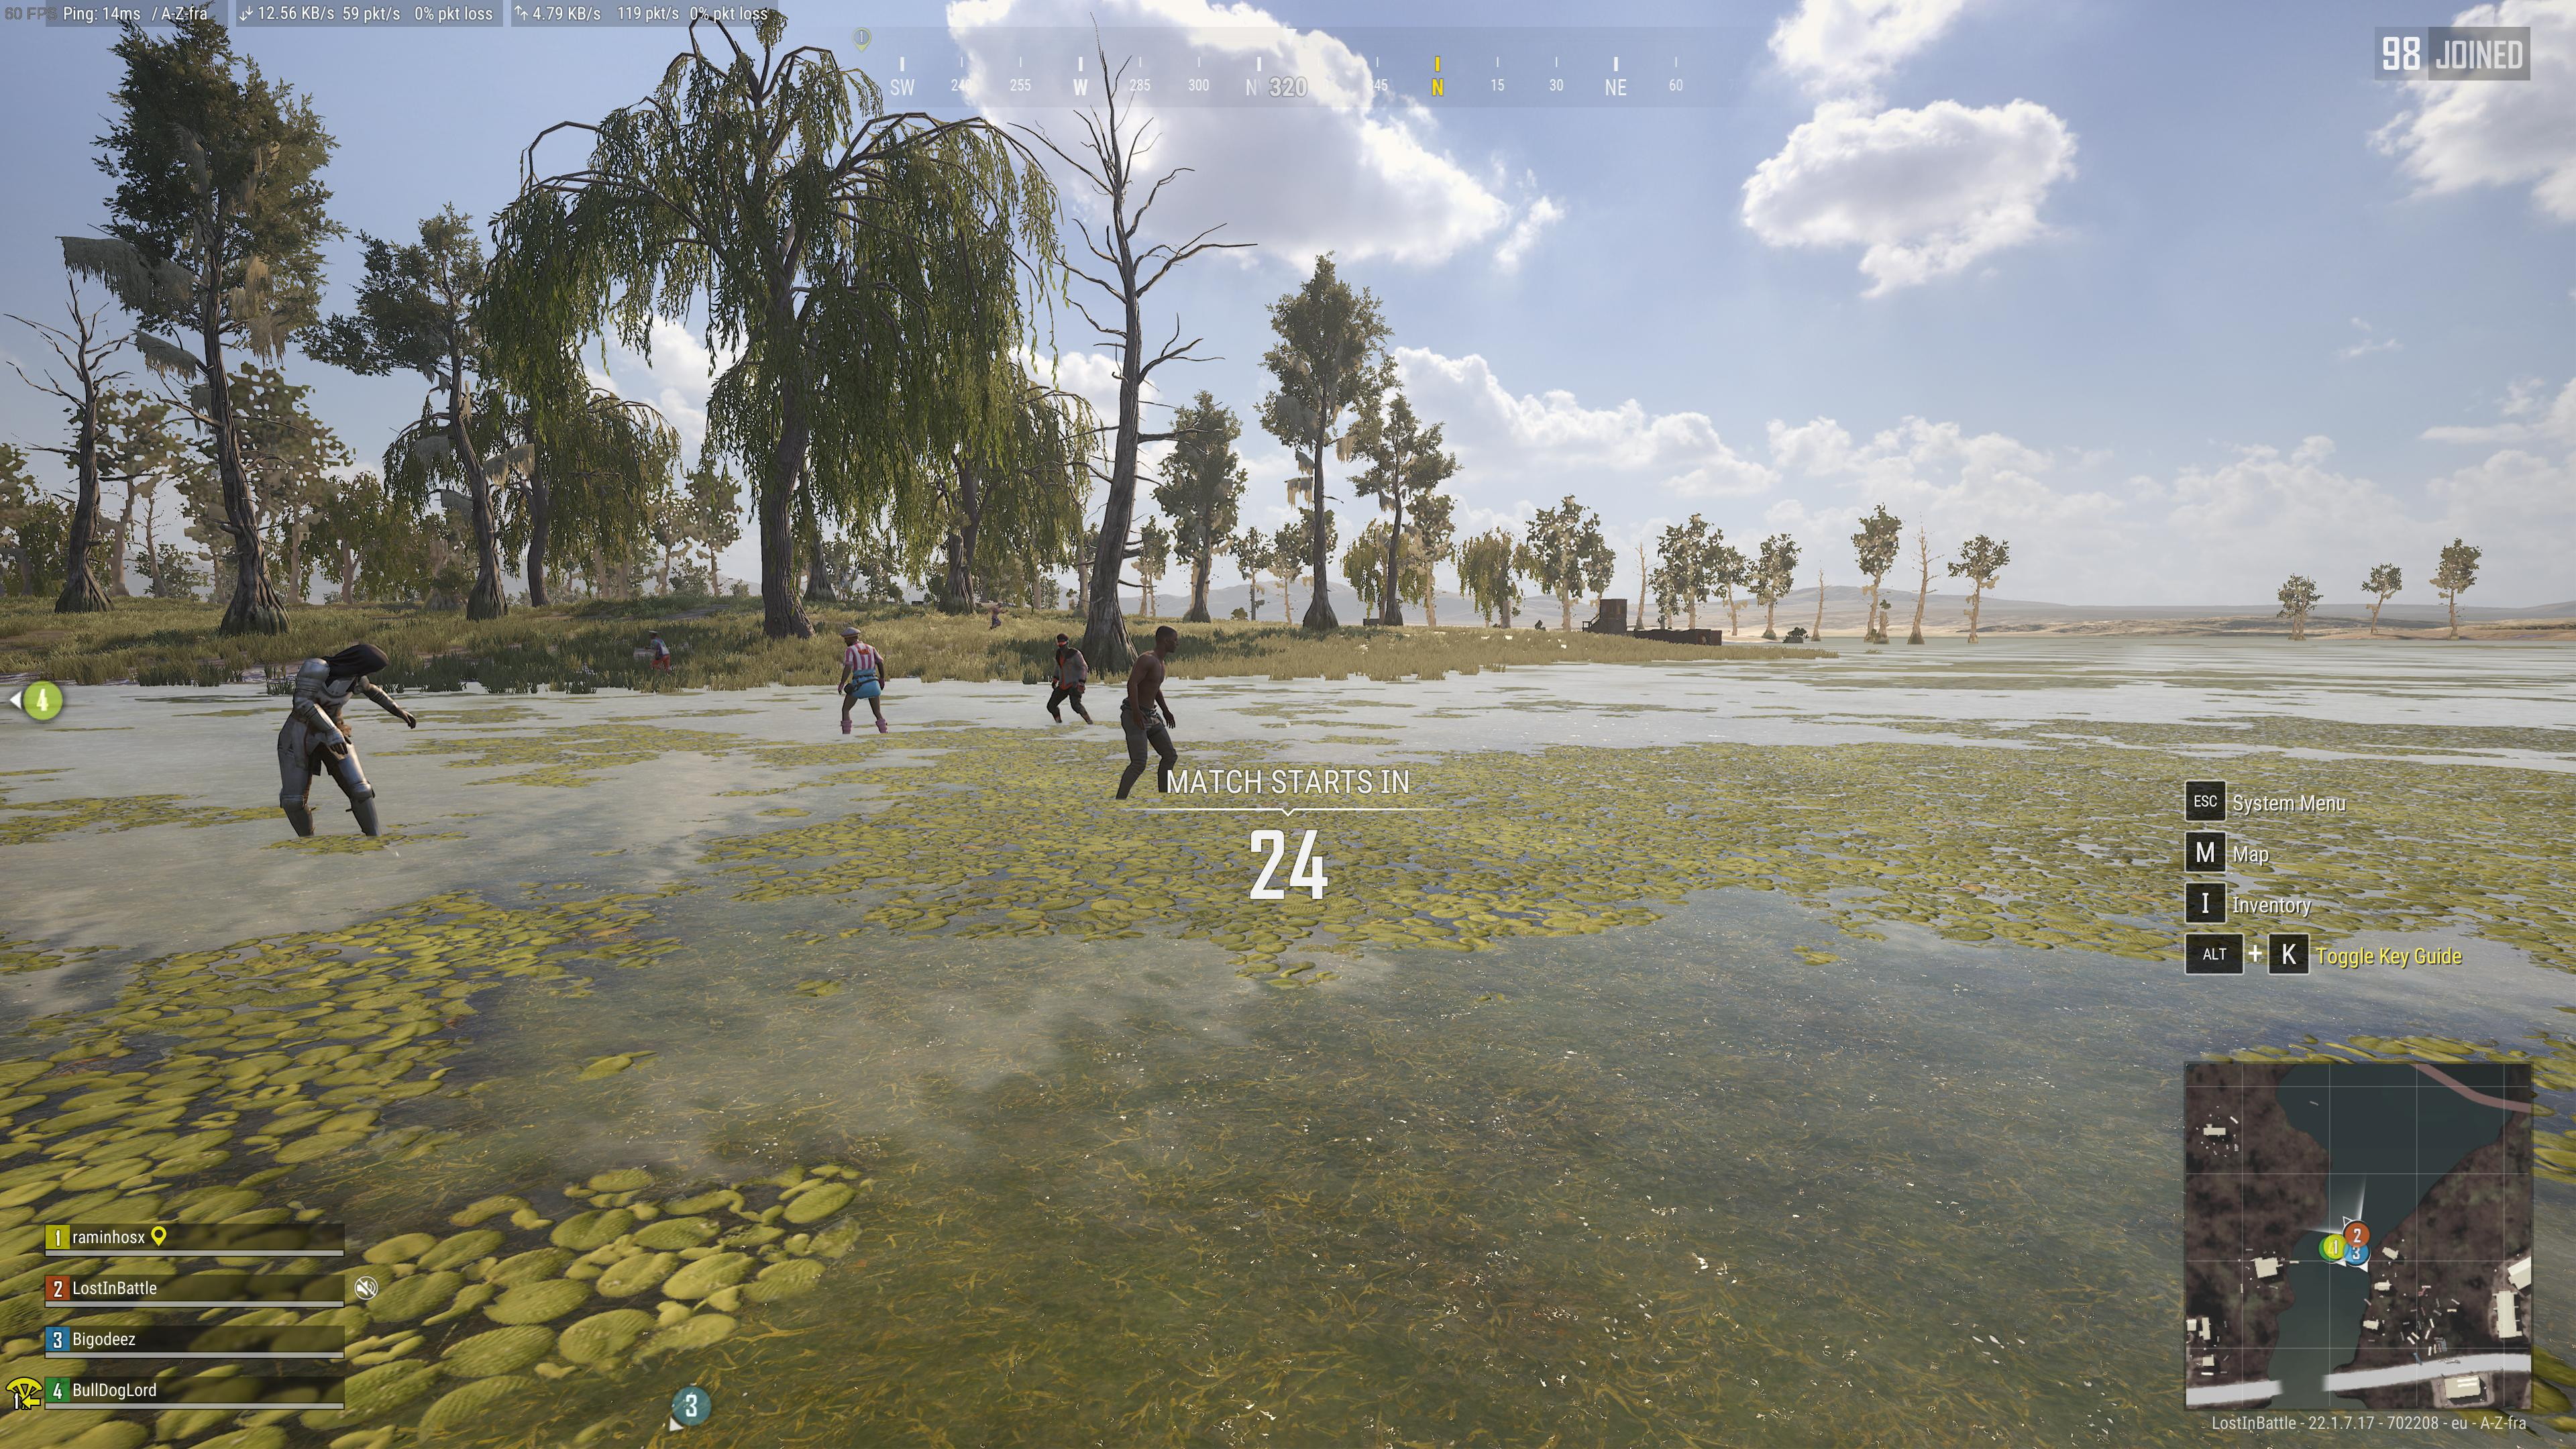enemy: (274, 642, 416, 842), (1115, 623, 1180, 805), (837, 625, 888, 734), (1044, 632, 1093, 725), (642, 628, 674, 674), (984, 602, 1008, 630)
enemy_head: (331, 640, 391, 692), (1154, 625, 1180, 655), (839, 626, 860, 646), (1053, 632, 1070, 651), (648, 630, 658, 639), (996, 602, 1003, 609)
